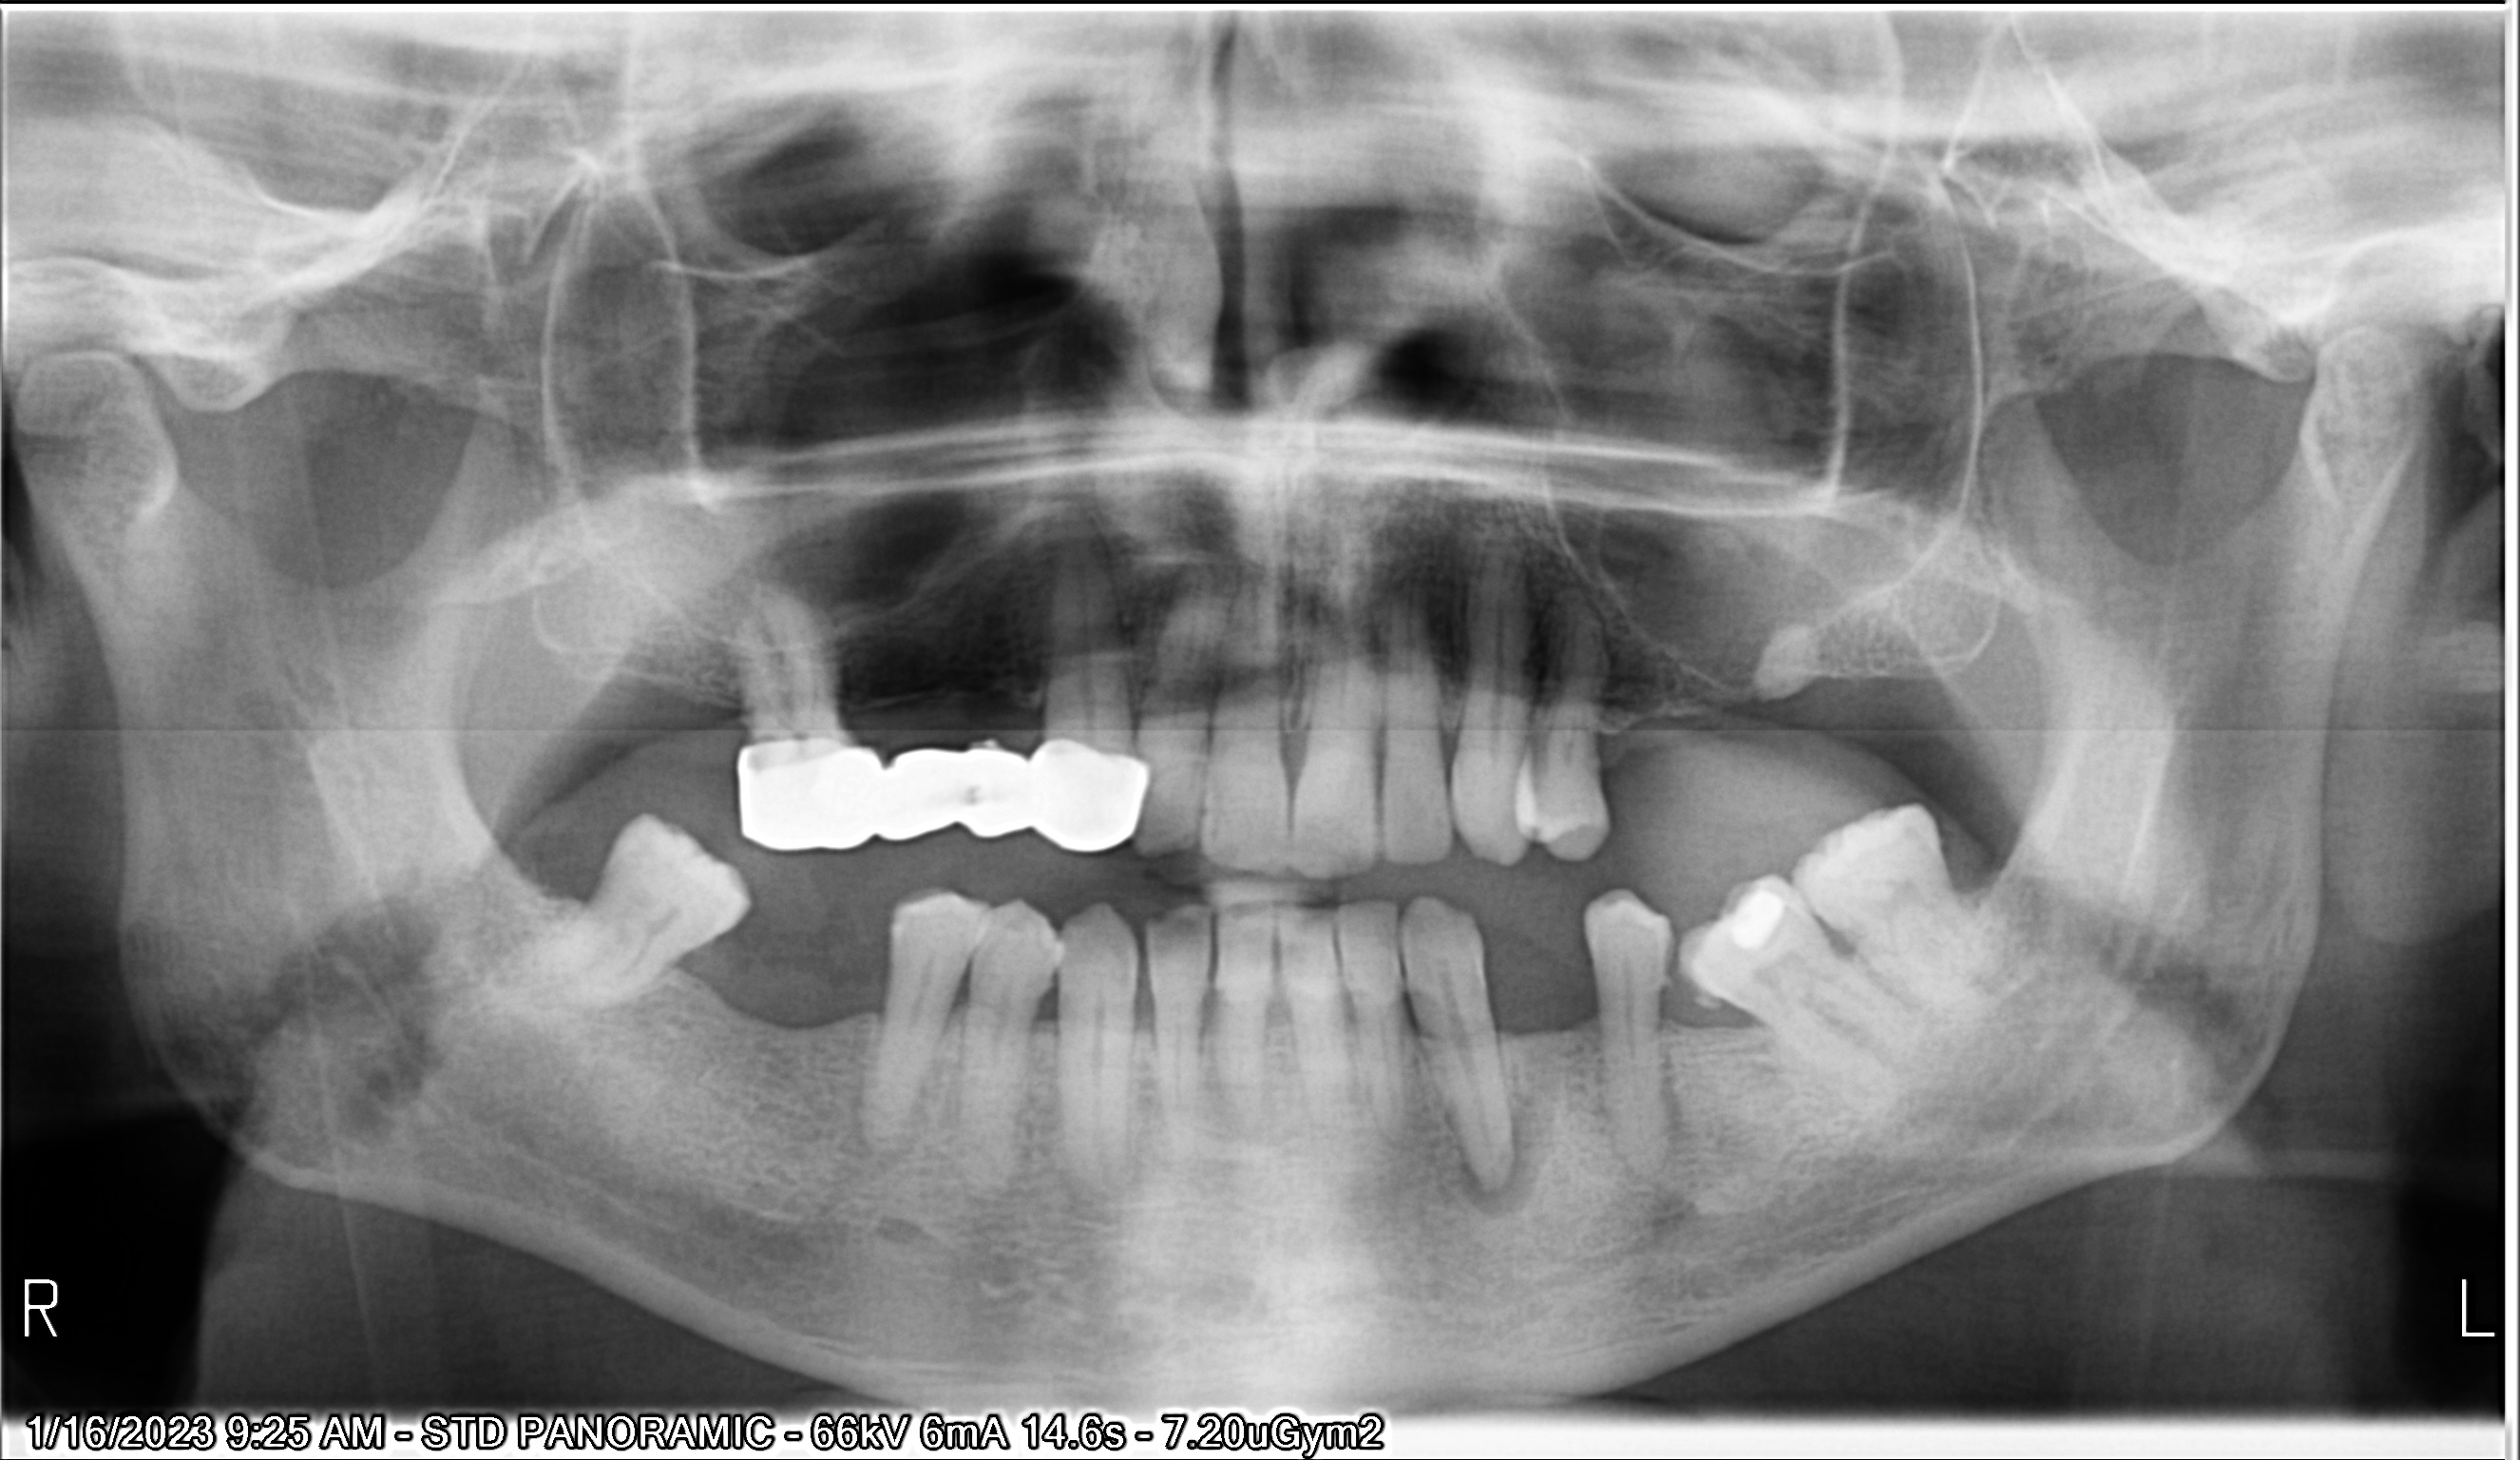API: (1436, 1126, 1551, 1251)
BON: (1671, 982, 1784, 1064)
OBT: (1704, 878, 1811, 958)
PRR: (716, 716, 1171, 876)
ROT: (1707, 612, 1851, 733)
